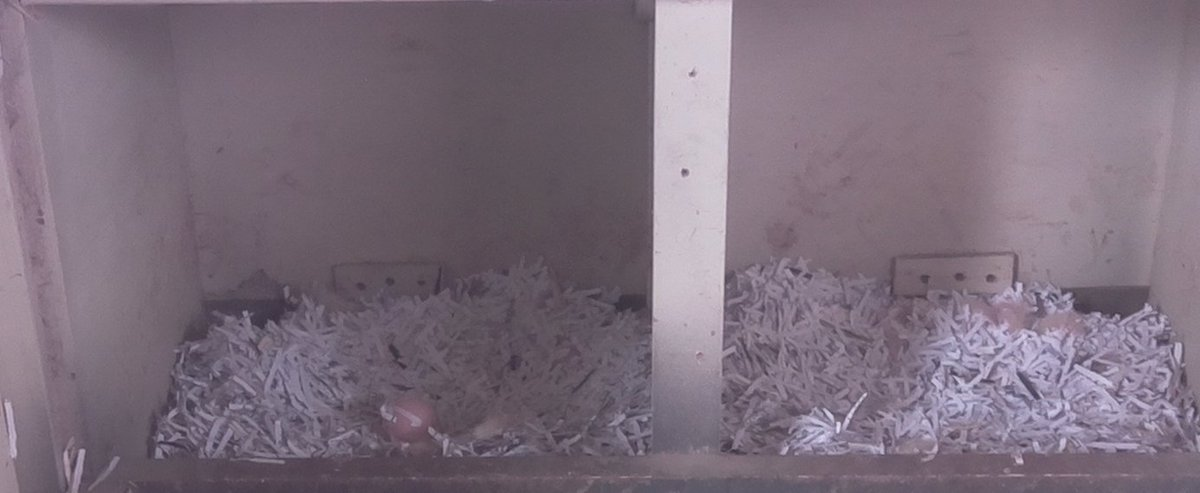egg: (374, 391, 445, 446)
